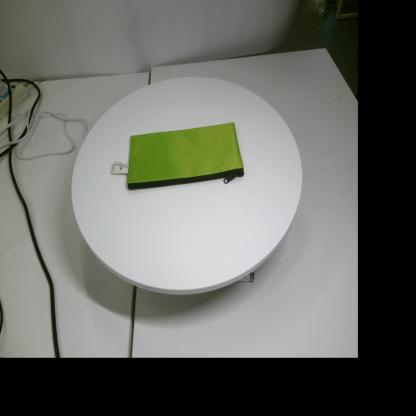Stationery: (112, 122, 244, 189)
